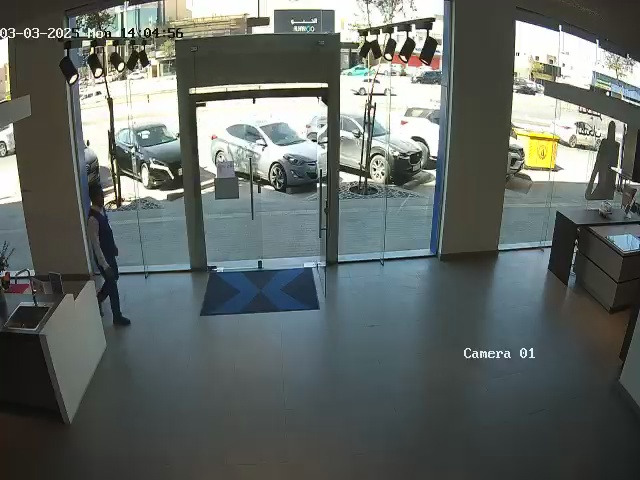employee: (87, 182, 131, 326)
